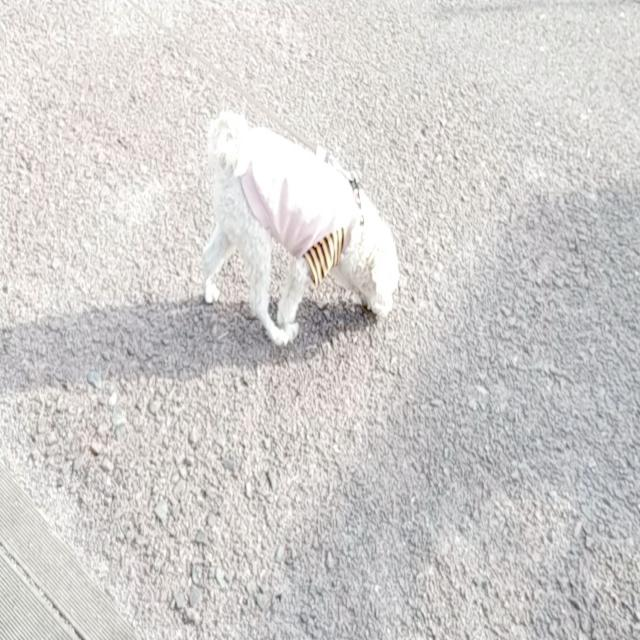Dog: (203, 110, 399, 346)
